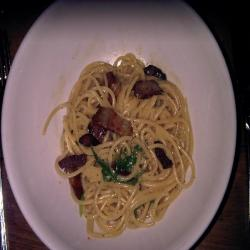carbonara: (61, 61, 190, 234)
